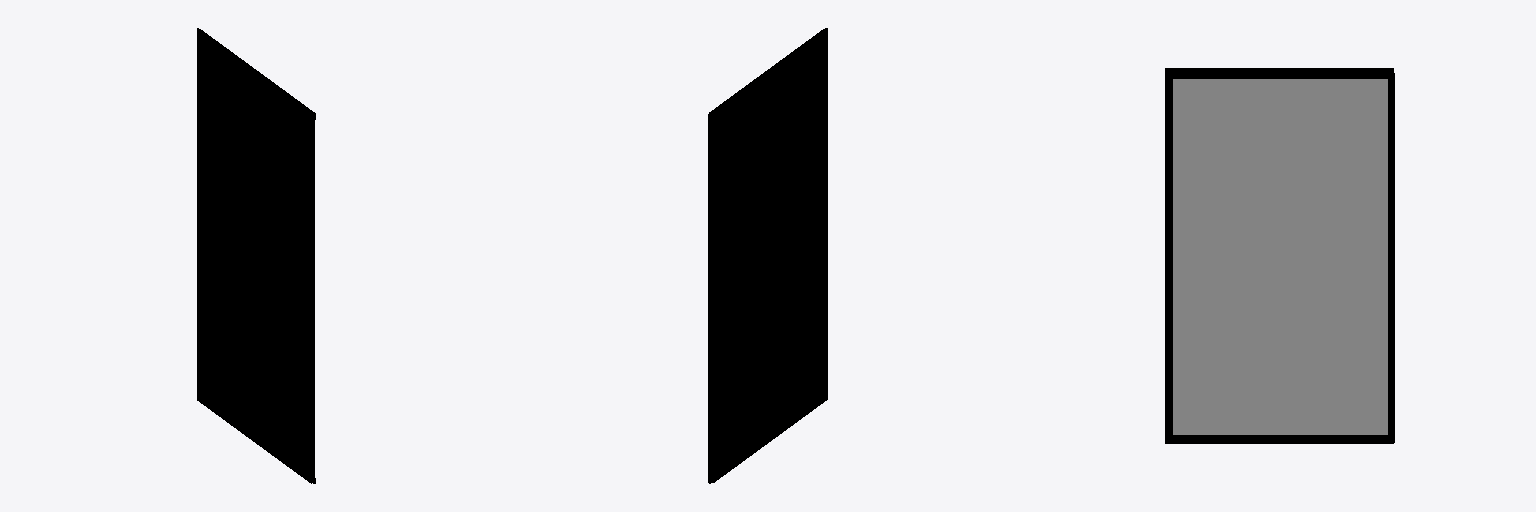
3 renders of one model, left to right at view 1: azimuth 30°, elevation 25°; view 2: azimuth 150°, elevation 25°; view 3: azimuth 270°, elevation 25°, orthographic.
Visible parts, largest first — view 1: Cube, Cube.002; view 2: Cube, Cube.002; view 3: Plane, Cube.002, Cube.
Boxes of the visible parts, box(x1,y1,x2,y2) form: Cube: box(197, 28, 312, 483); Cube.002: box(202, 30, 315, 483); Cube: box(711, 28, 827, 482); Cube.002: box(708, 30, 821, 483); Plane: box(1173, 79, 1387, 434); Cube.002: box(1165, 72, 1394, 443); Cube: box(1165, 68, 1393, 435).
Bounding box in the file's own units: 0.1098 × 8.85 × 4.93.
Materials: 2 (1 with a texture image).